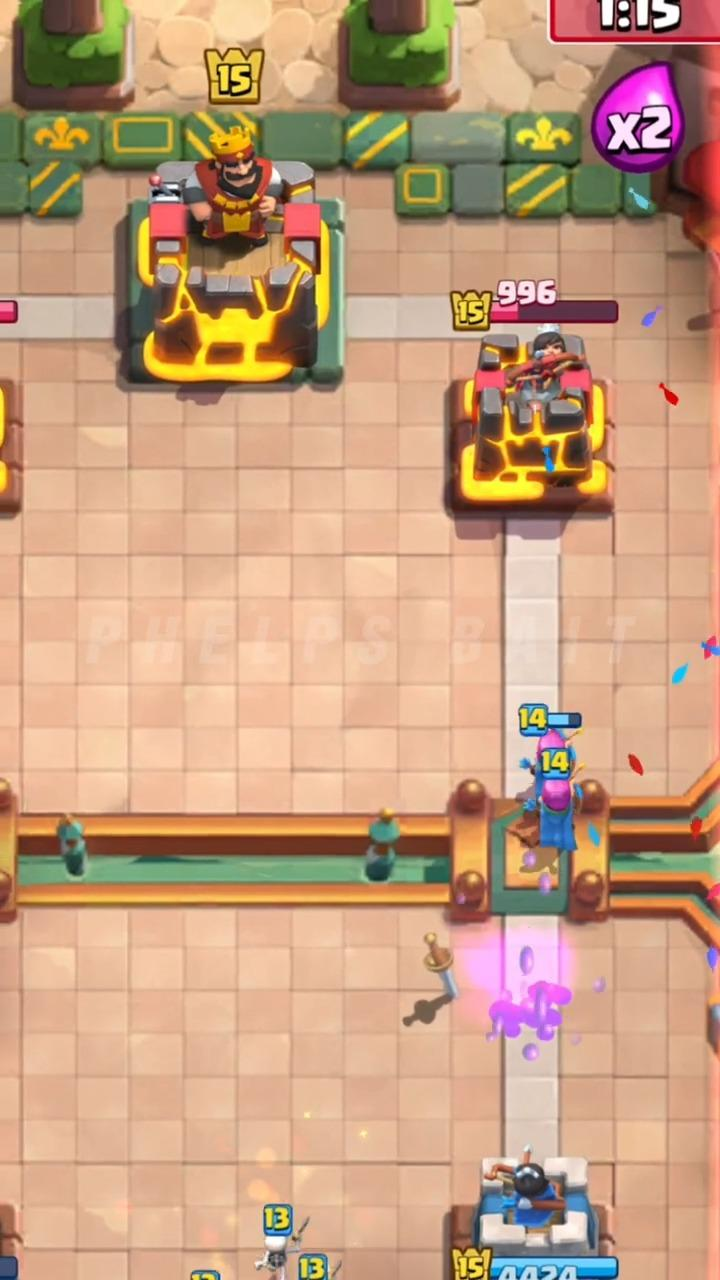archer: (520, 730, 581, 854)
skeleton: (255, 1233, 293, 1279)
